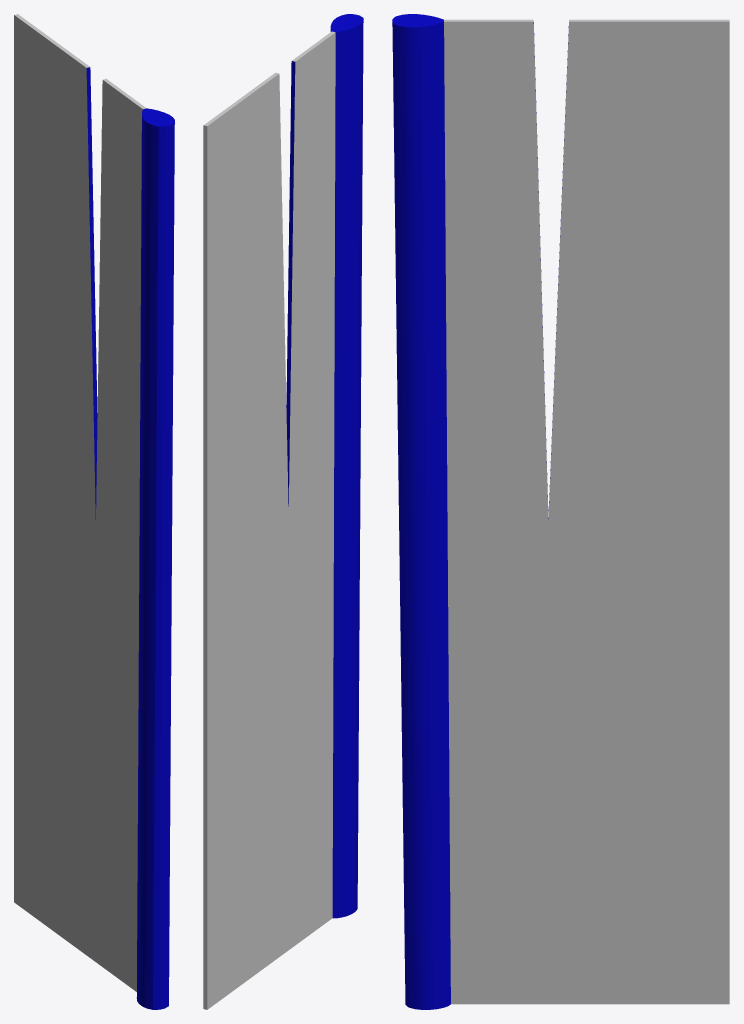
The model's file is pizza_wall.fbx.
3 renders of one model, left to right at view 1: azimuth 30°, elevation 25°; view 2: azimuth 150°, elevation 25°; view 3: azimuth 270°, elevation 25°, orthographic. The views are drawn at different scales.
Parts seen in each view (by area): view 1: Cube_Cube.001; view 2: Cube_Cube.001; view 3: Cube_Cube.001.
Part boxes in pixels (x1,y1,x2,y2): Cube_Cube.001: [14, 14, 174, 1009]; Cube_Cube.001: [203, 14, 363, 1009]; Cube_Cube.001: [392, 14, 729, 1009].
Bounding box in the file's own units: 32.54 × 1112 × 346.
